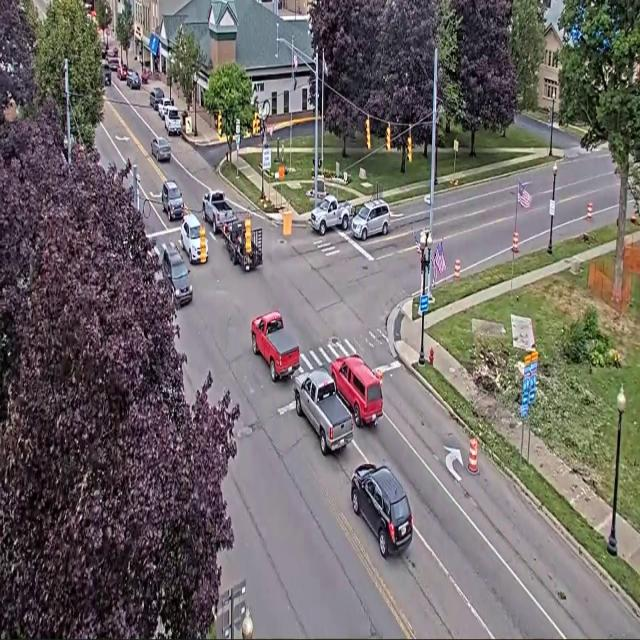car: (351, 464, 413, 557), (331, 355, 382, 427), (156, 243, 192, 307), (351, 200, 390, 240), (181, 214, 208, 263), (161, 181, 184, 220), (164, 106, 181, 135), (151, 137, 171, 161), (149, 87, 165, 111), (157, 96, 173, 119), (127, 70, 141, 89), (117, 63, 129, 81), (103, 61, 111, 86), (141, 68, 151, 84), (108, 57, 119, 71), (103, 67, 111, 86), (101, 43, 108, 58), (110, 47, 118, 57)
traffic signal: (244, 217, 252, 254), (200, 226, 207, 263), (252, 112, 259, 135), (217, 112, 223, 137), (407, 134, 412, 162), (366, 117, 370, 150), (386, 125, 391, 151)
truck: (294, 369, 353, 455), (251, 312, 299, 382), (222, 216, 262, 271), (310, 195, 352, 235), (202, 191, 235, 234)
